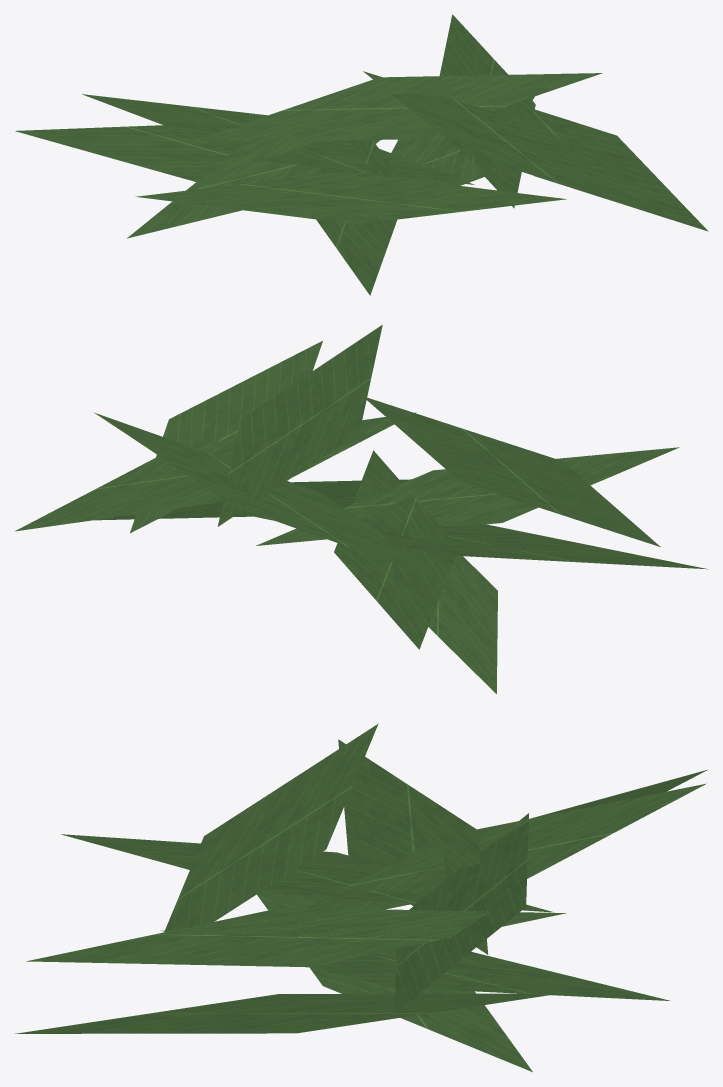
The model's file is pr-011_palm_leaf_pile__medium.obj.
3 views of the same model, one above another, from view 1: azimuth 30°, elevation 25°; view 2: azimuth 150°, elevation 25°; view 3: azimuth 270°, elevation 25° (orthographic). The views are drawn at different scales.
Parts seen in each view (by area): view 1: pr-011_palm_leaf_pile__medium; view 2: pr-011_palm_leaf_pile__medium; view 3: pr-011_palm_leaf_pile__medium.
Part boxes in pixels (bbox=[...]): pr-011_palm_leaf_pile__medium: bbox=[15, 14, 708, 295]; pr-011_palm_leaf_pile__medium: bbox=[14, 325, 707, 693]; pr-011_palm_leaf_pile__medium: bbox=[15, 723, 707, 1072].
Bounding box in the file's own units: 1.19 × 0.1155 × 1.13.
Materials: 1 (1 with a texture image).
